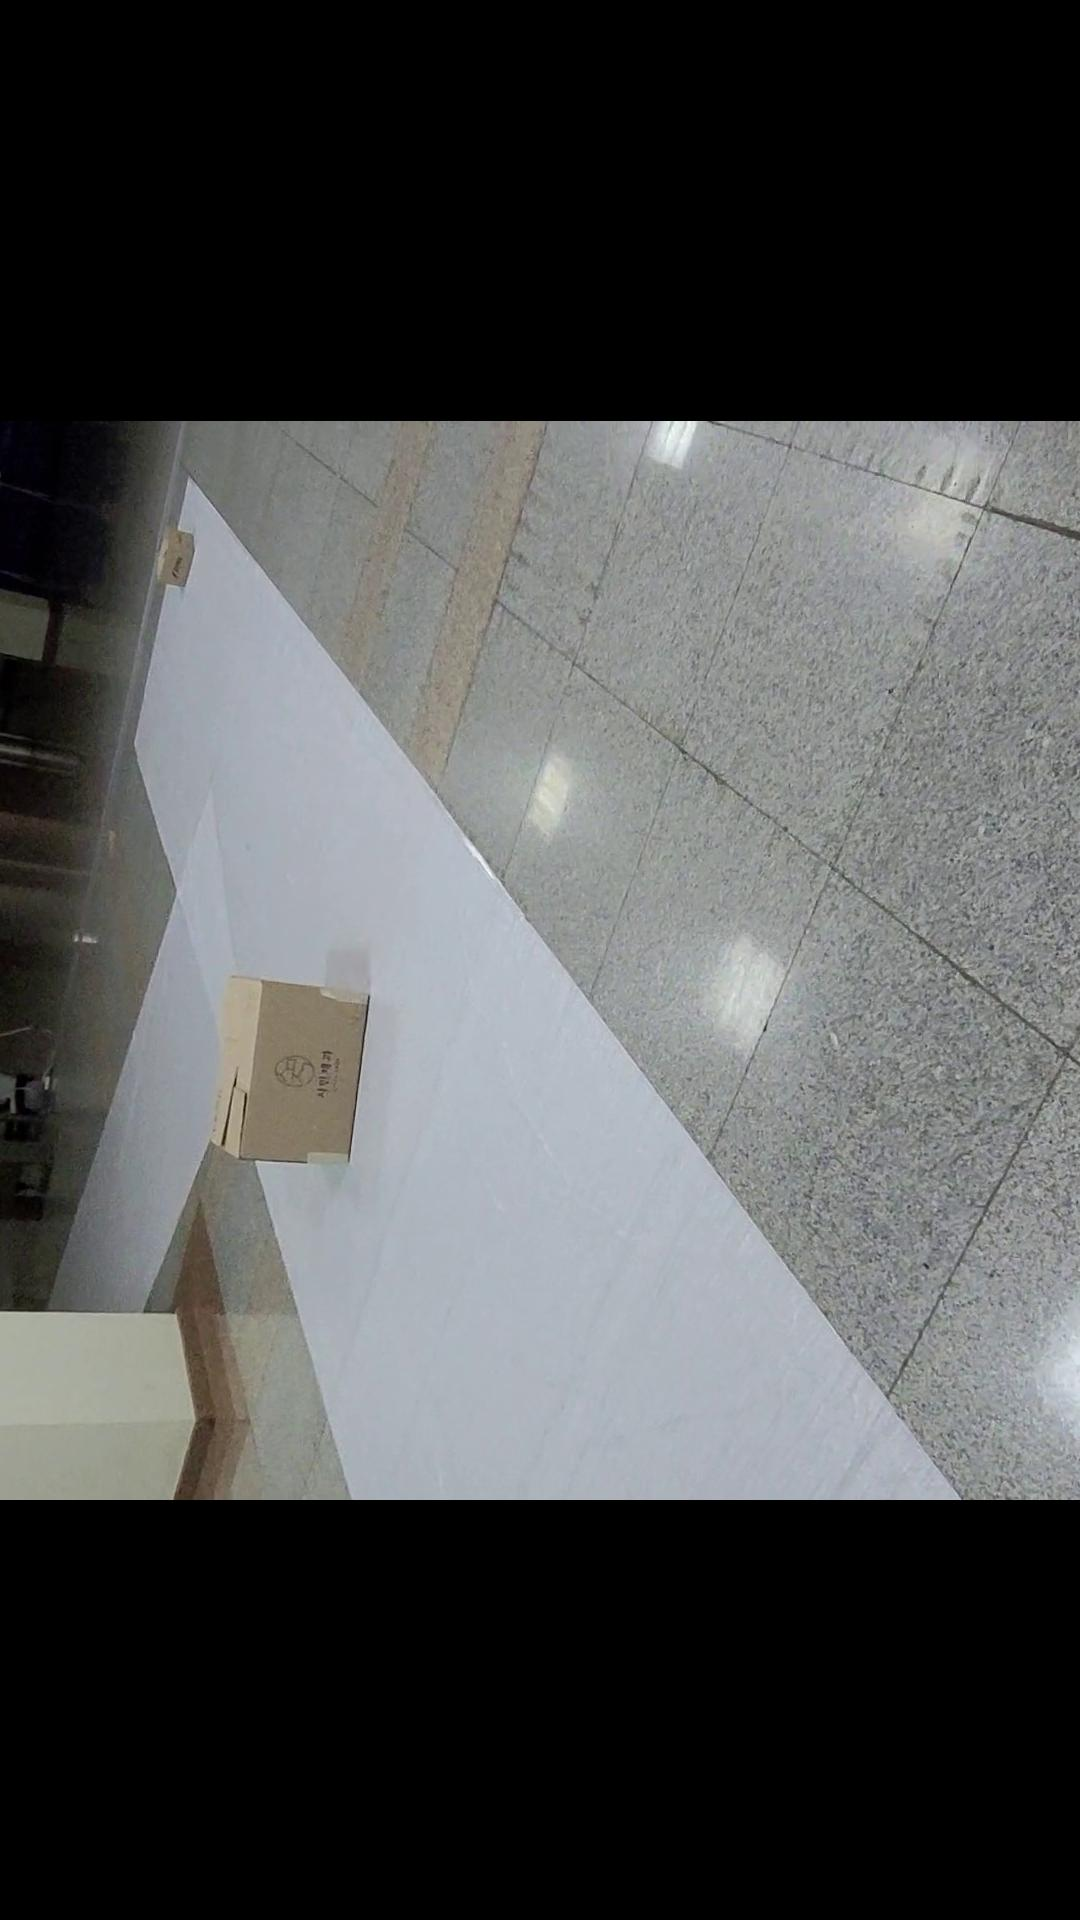Box: (190, 932, 390, 1174), (145, 520, 200, 593)
